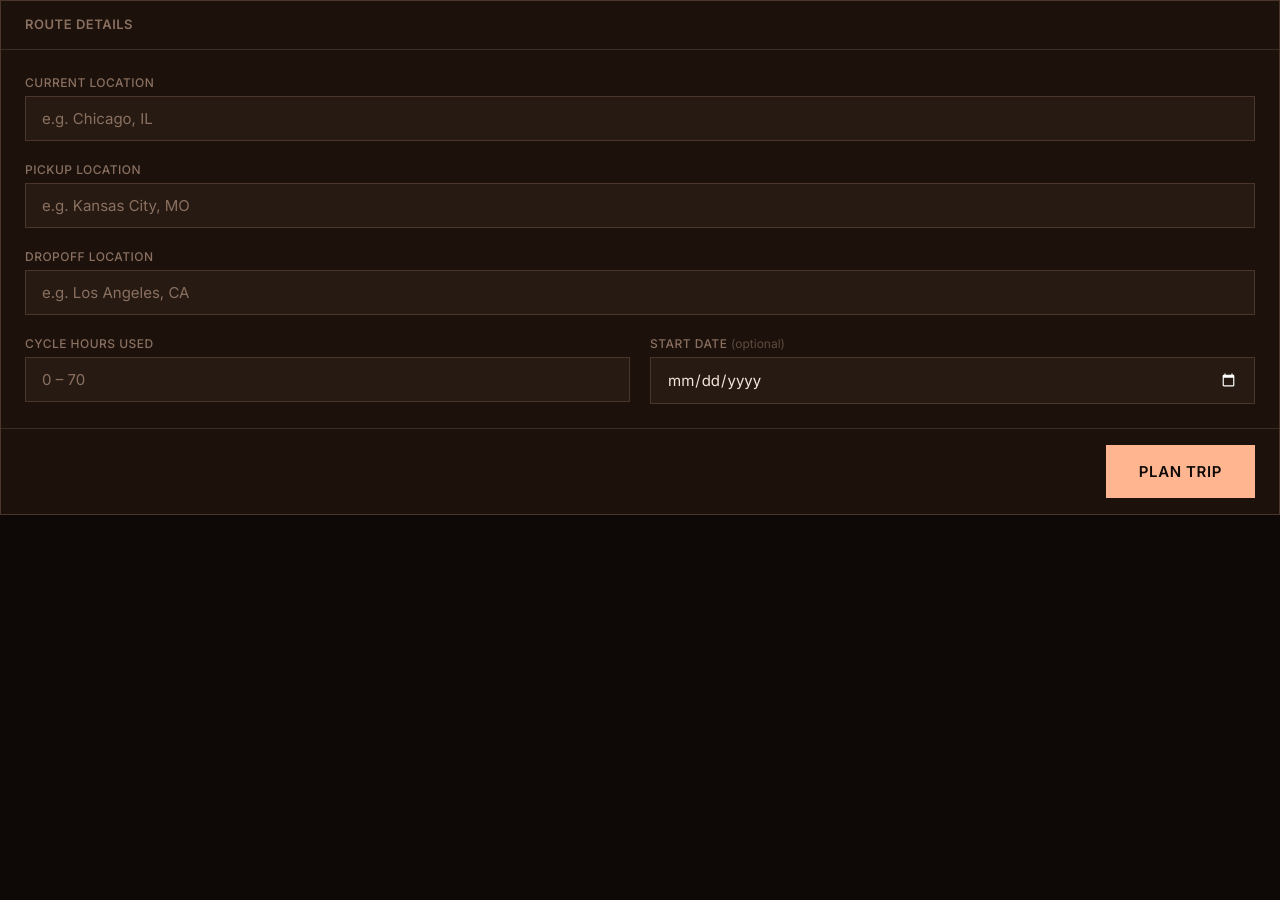
it: TripForm › clears field error when the user starts typing
// Trigger the error first
Click the button "Plan Trip" at (1180, 471), box [1106,445,1255,498]
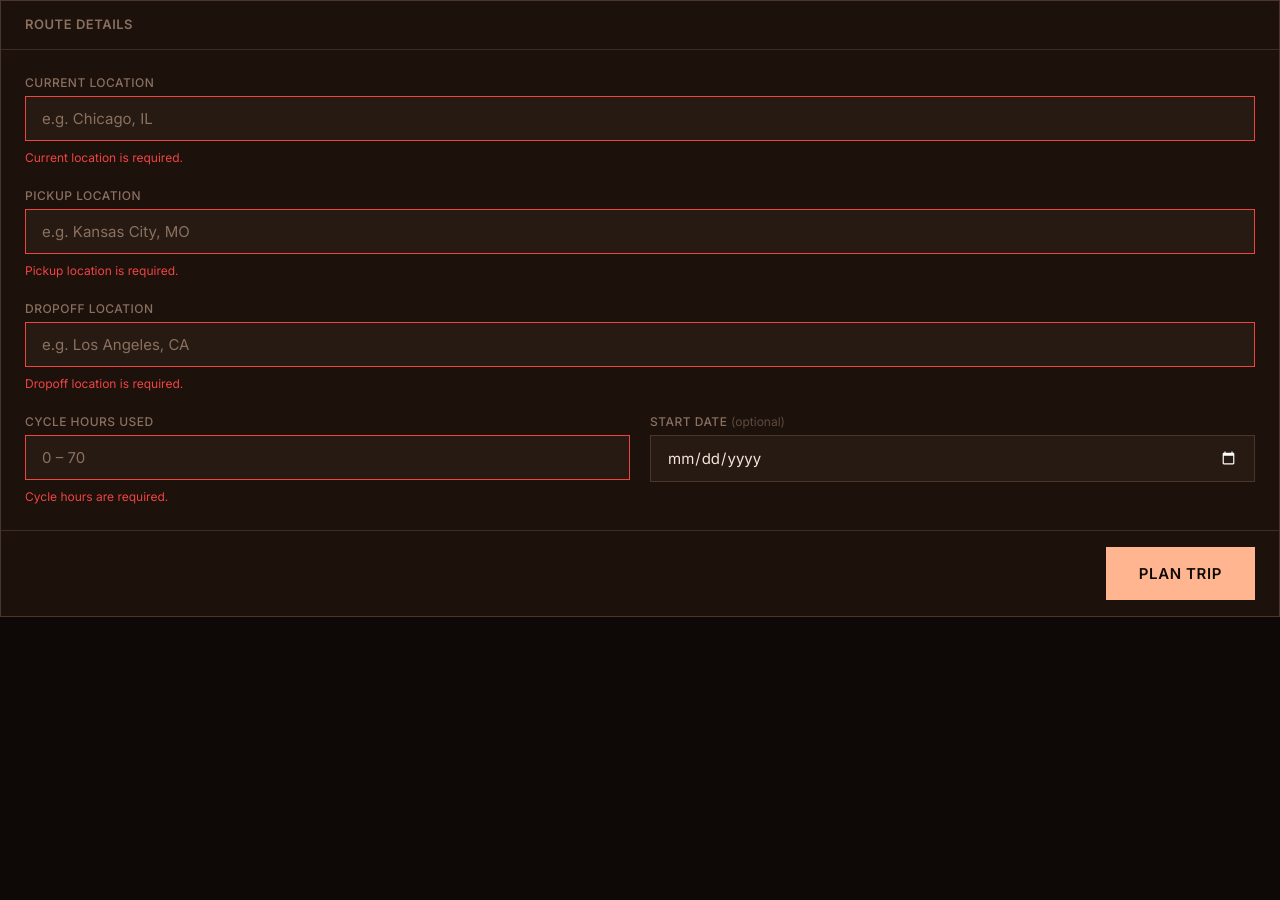
expect the text "Current location is required." is shown: met, box [25,150,183,165]
// Start typing — error should clear
Type "C" into the field labelled "Current Location" at (640, 118), box [25,96,1255,141]
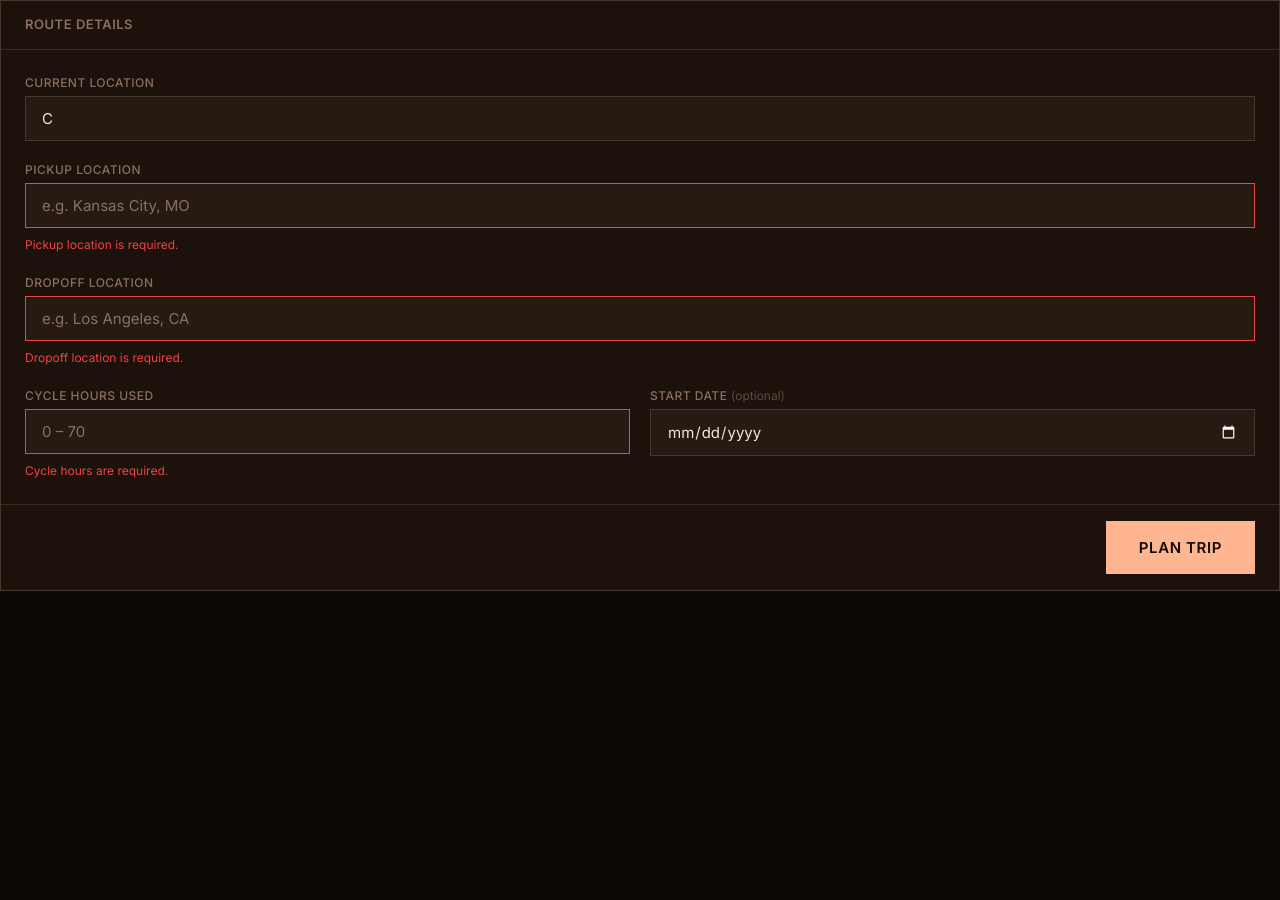
expect the text "Current location is required" is gone: met
